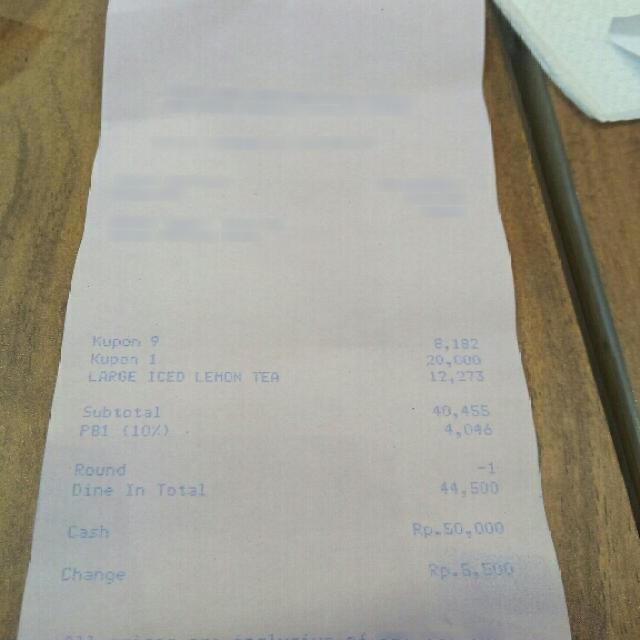kertas: (17, 0, 570, 640)
